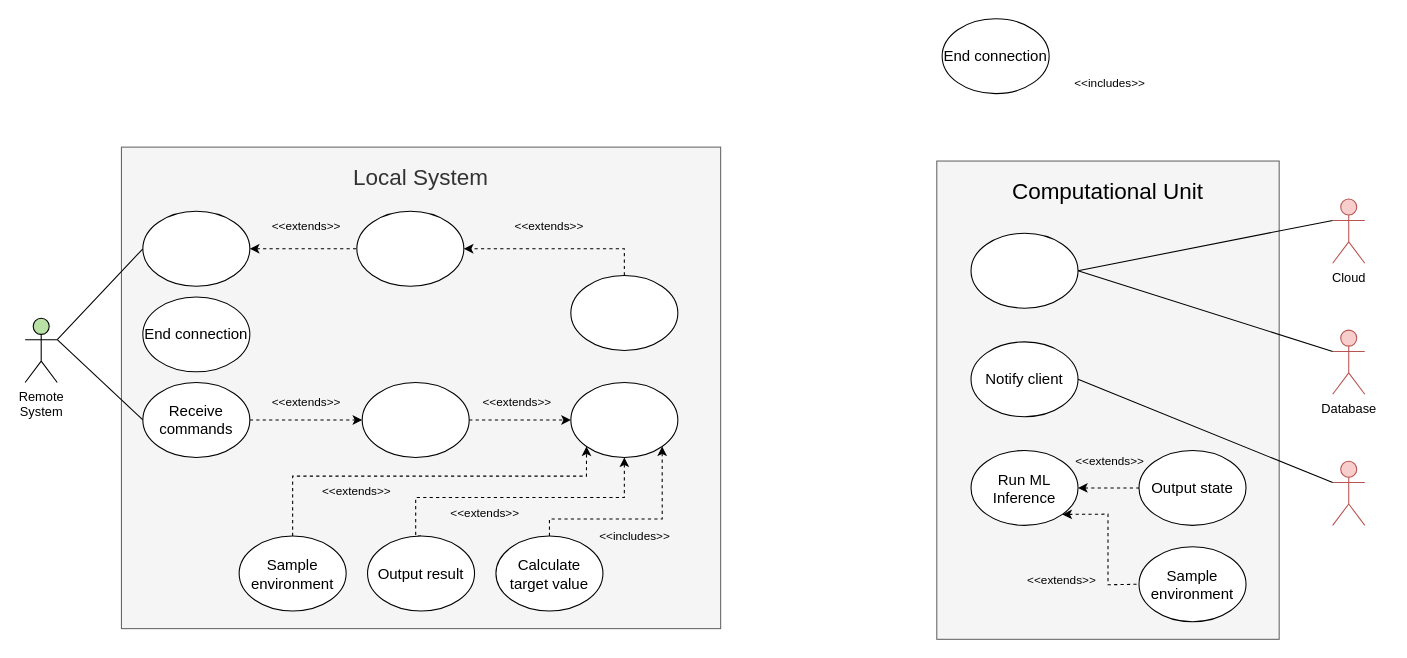
Image size: 1407x658. Some labels were removed from this diagram. The shapes that lost their labels are listed below. From the top down, each one's centre as x and y in pixels, then its label:
the point at 196,248: Establish connection
the point at 410,248: Accept/reject connection
the point at 1024,270: Upload information
the point at 624,312: Verify credentials
the point at 415,419: Process commands
the point at 624,419: Run RL Inference
the point at 1348,492: Remote Client
